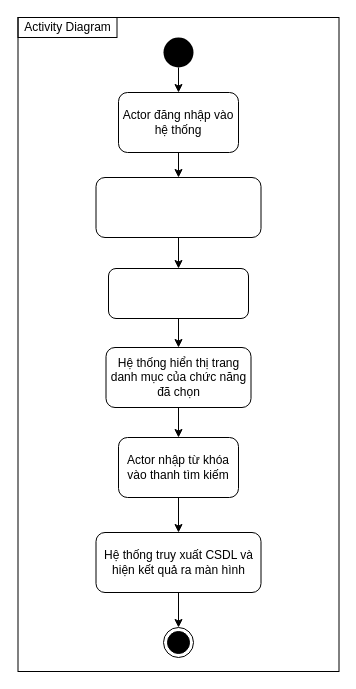
Some shapes in this 356 by 689 pixel diagram are drawn without their labels. The centre of each missing label's shape, as x and y in pixels:
"Actor chọn chức năng cần sử dụng" belongs at [178,293].
"Hệ thống hiển thị trang chủ và các chức năng để actor chọn" belongs at [178,207].
